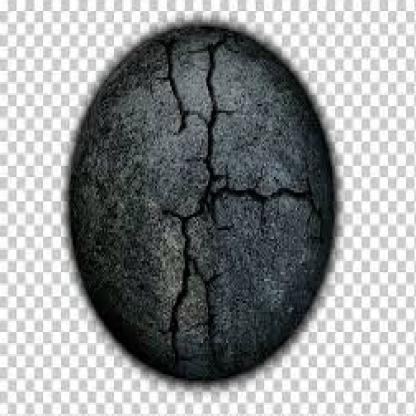Metamorphic_Marble: (64, 16, 342, 387)
